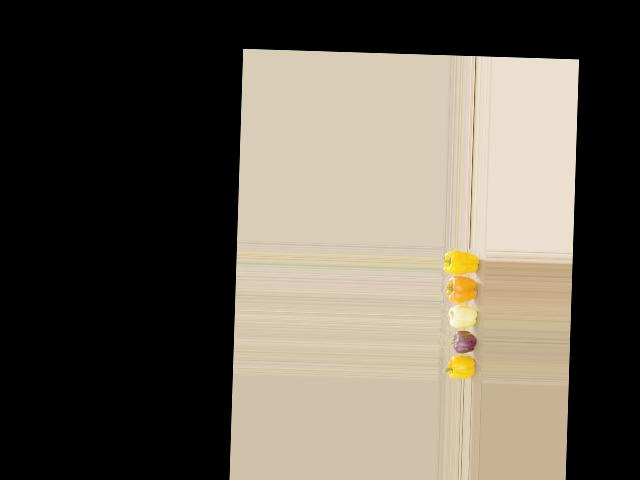bell_pepper: (441, 357, 481, 381)
